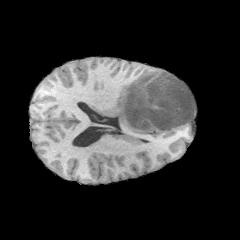glioma: (115, 72, 181, 136)
